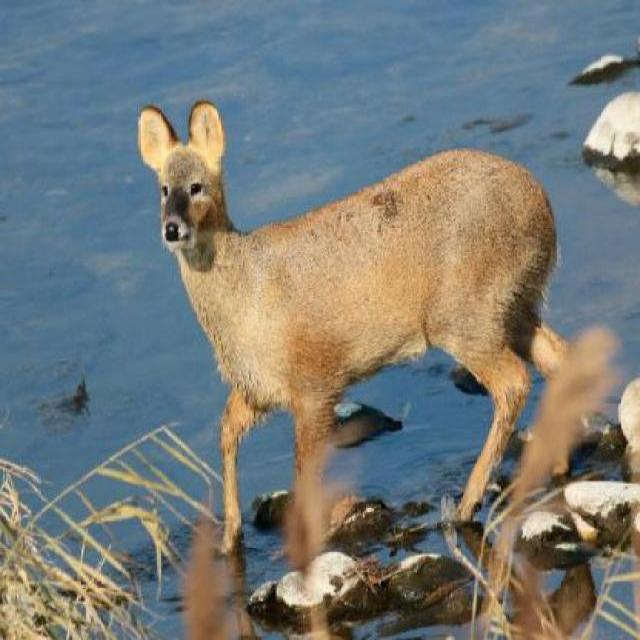deer: (122, 88, 581, 525)
